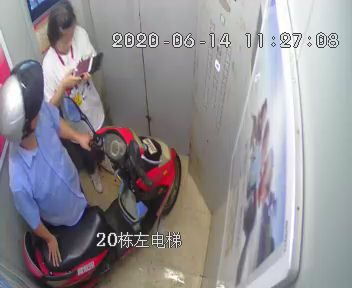Electric-bicycle: (20, 129, 181, 282)
